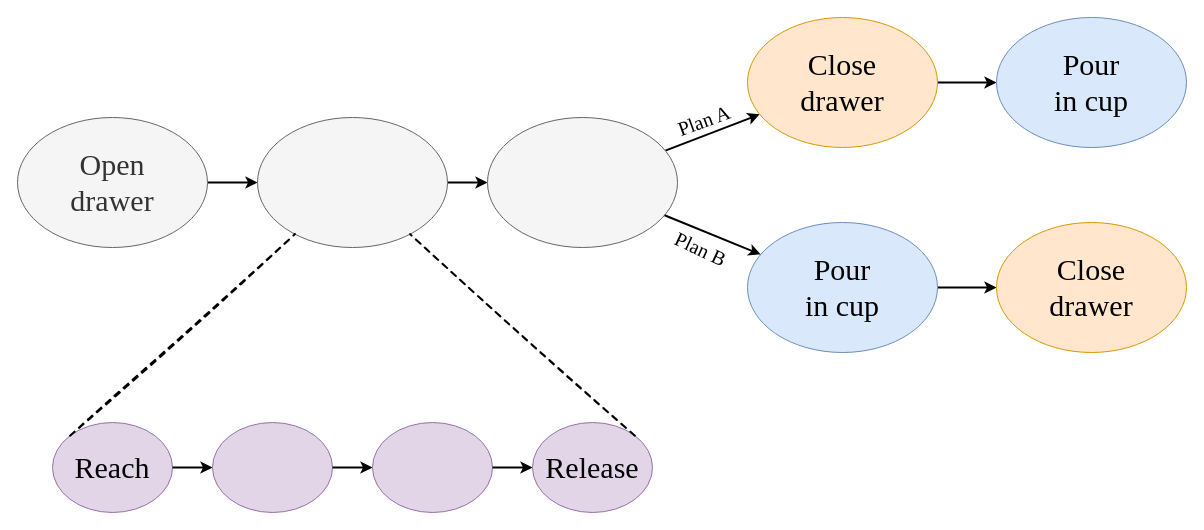
Some shapes in this 1204 by 530 pixel diagram are drawn without their labels. The shapes that lost their labels are listed below. From the top down, each one's centre as x and y in pixels, then its label:
(352,182): Pick & place cup
(582,182): Pick & place bowl
(272,467): Grasp
(432,467): Place
